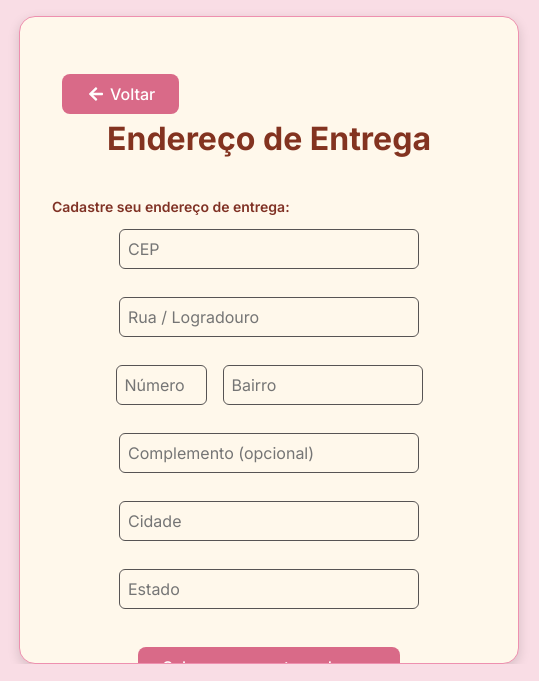
it: Address › deve formatar o CEP ao digitar
Type "58000000" into the field with placeholder "CEP" at (269, 249), box [119,229,419,269]
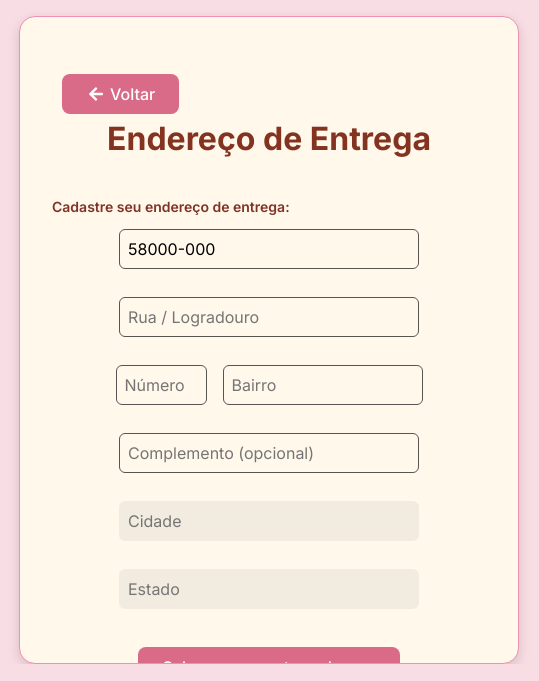
expect the field with placeholder "CEP" holds "58000-000": met, box [119,229,419,269]
